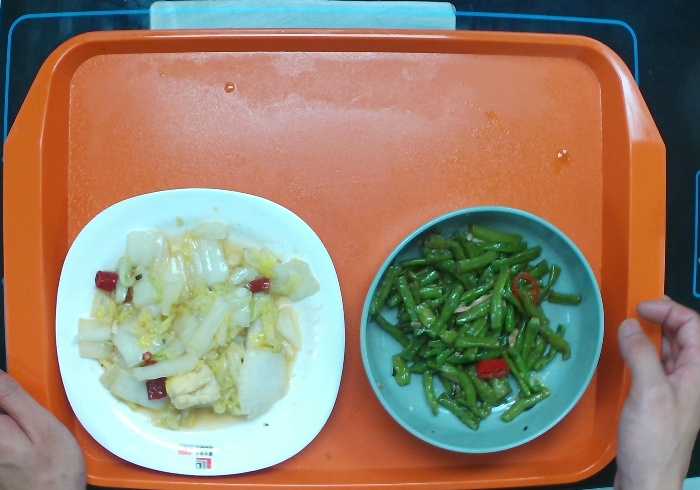ZNLD-Qing_Hua_Yuan_Wan: (357, 203, 607, 455)
ZNLD-Yuan_Jiao_Pan: (52, 186, 347, 477)
